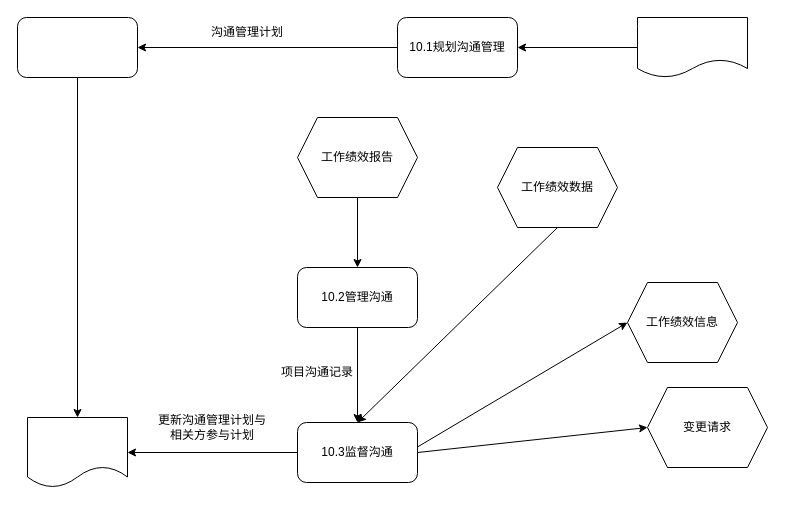
Image size: 785x508. Some labels were removed from this diagram. Each missing label, with the centre of its shape:
4.2制定项目管理计划: (77,47)
项目章程: (692,47)
项目管理计划: (77,452)
